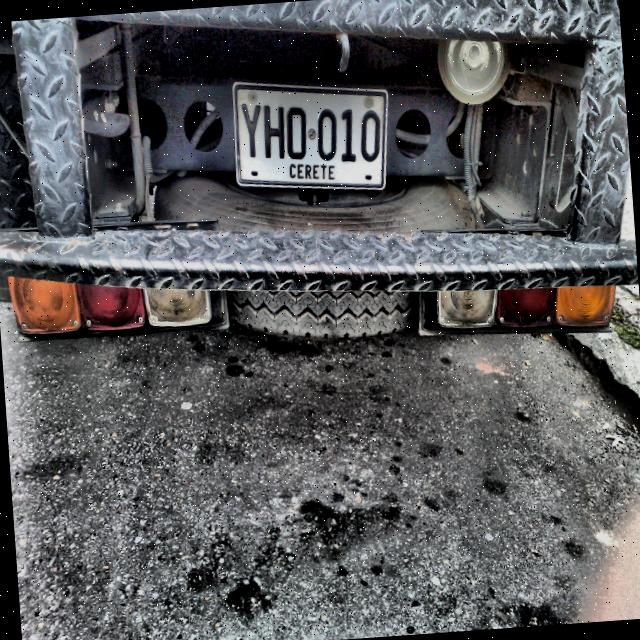0: (358, 108, 382, 163), (316, 106, 339, 162)
1: (339, 107, 357, 164)
H: (262, 103, 285, 160)
O: (285, 104, 307, 161)
Y: (239, 102, 261, 159)
